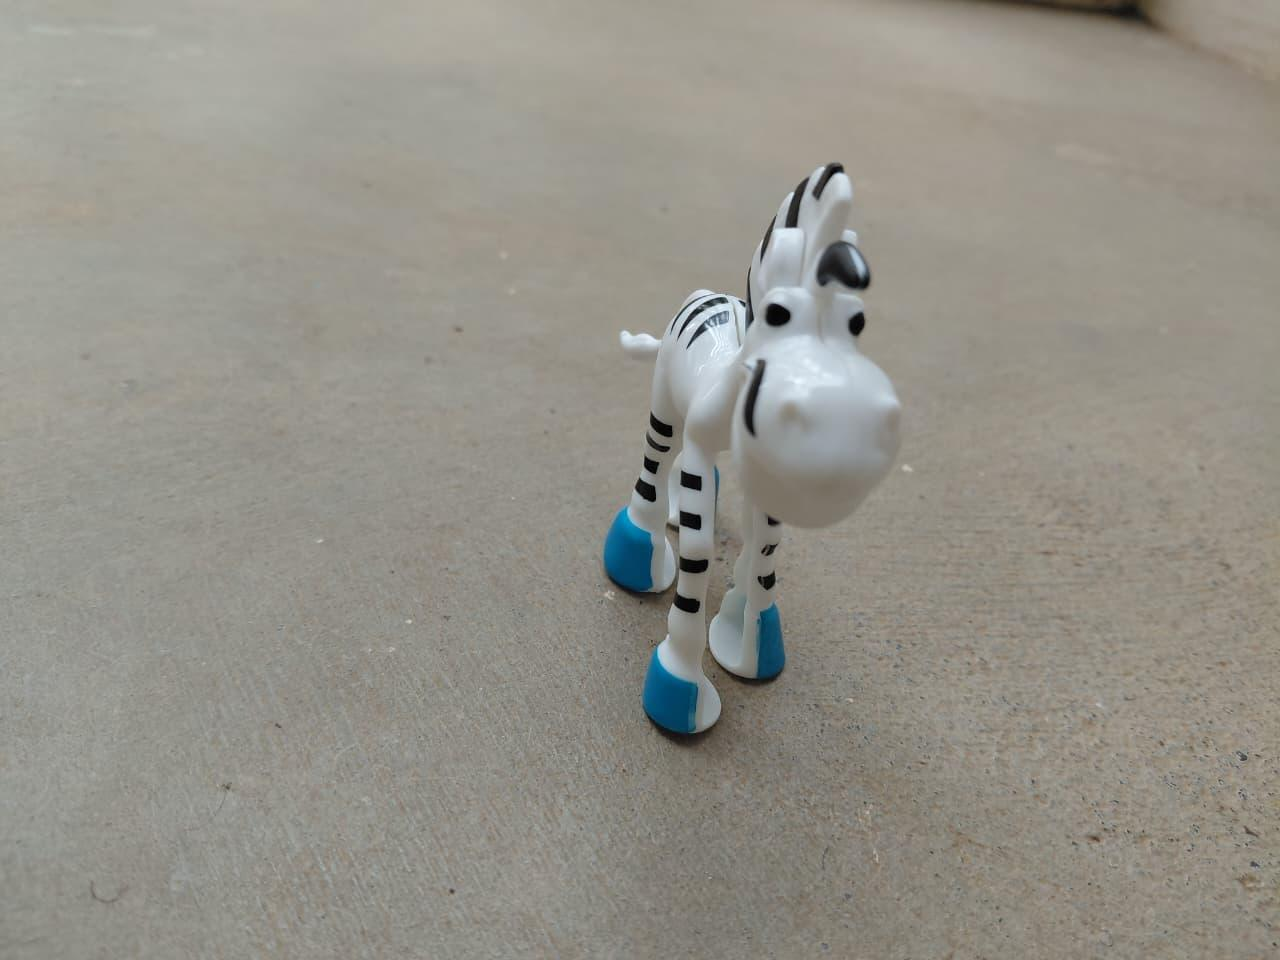zebra: (592, 158, 906, 738)
